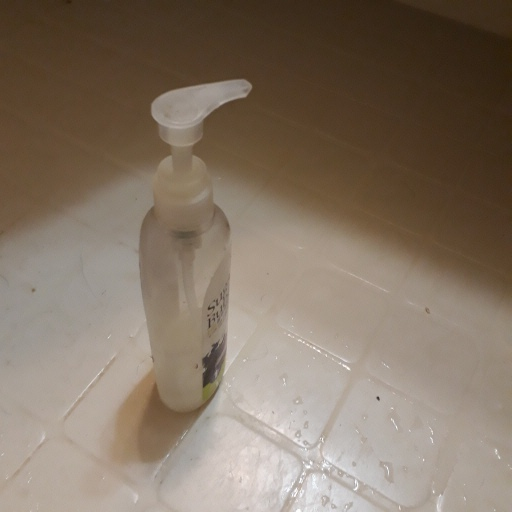Plastic_3: (139, 75, 258, 416)
